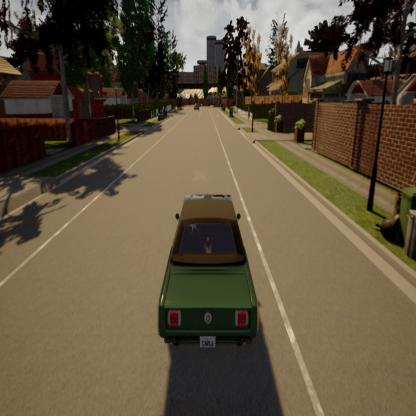Cars: (159, 195, 258, 350), (194, 100, 200, 112)
Pedestrian: (247, 105, 250, 121)
